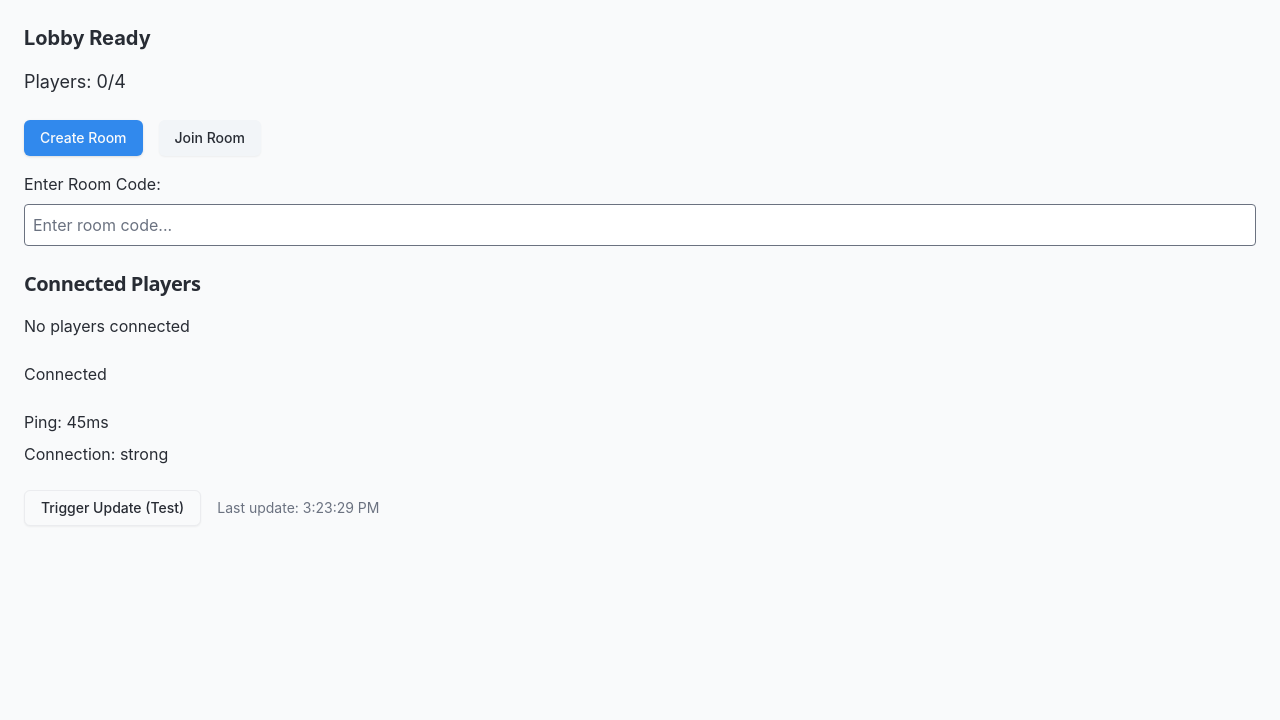
it: Multiplayer Integration Tests (TDD CYCLE 4 GREEN Phase) › Phase GREEN - Tests qui doivent maintenant passer › should allow joining existing room with code
Type "room123" into the field with test id "room-code-input" at (640, 225), box x1=24 y1=204 x2=1256 y2=246
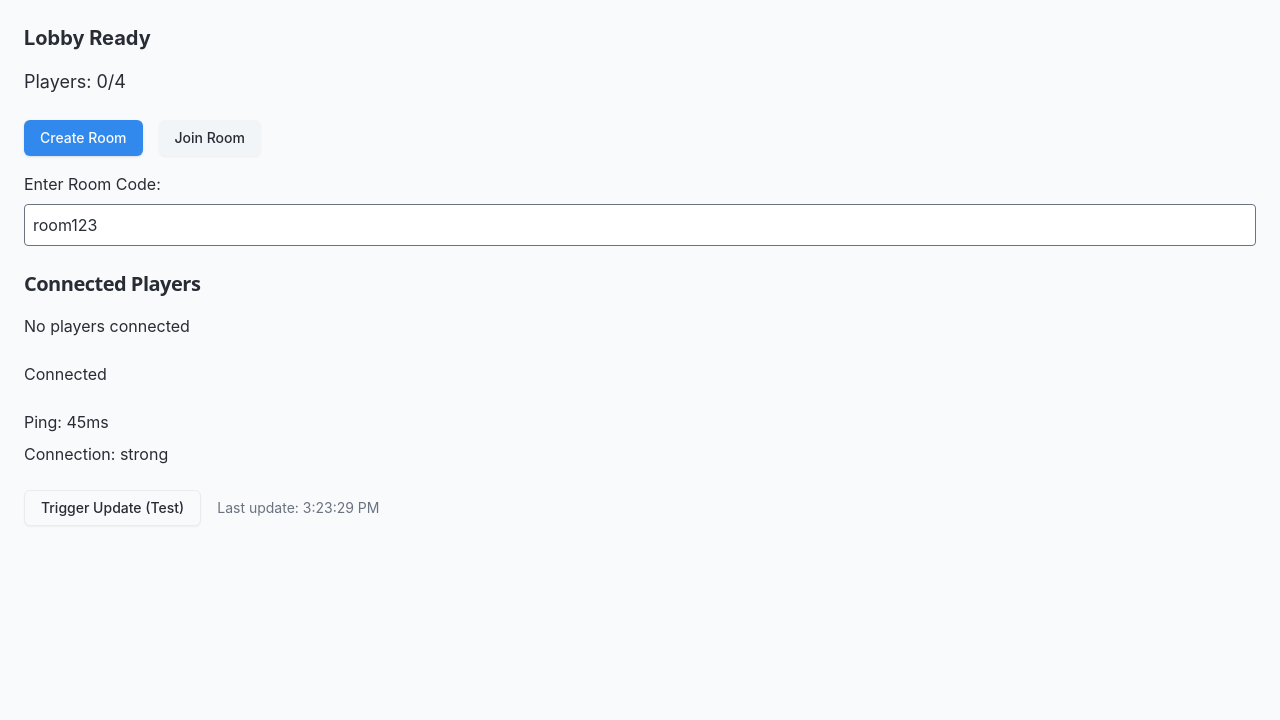
Click the button with test id "join-room-button" at (210, 138), box x1=158 y1=120 x2=261 y2=156
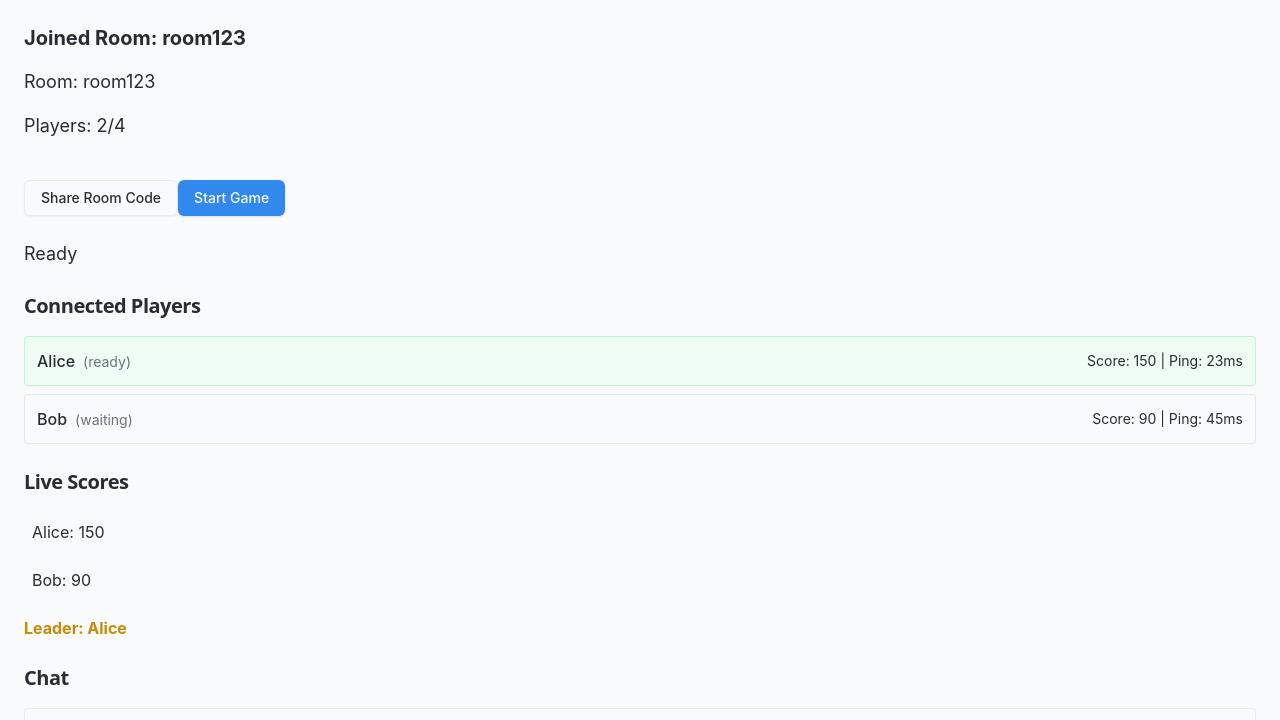
Expected: the text with test id "lobby-status" reads "Joined Room: room123", x1=24 y1=26 x2=246 y2=50
Expected: the text with test id "room-code-display" reads "Room: room123", x1=24 y1=71 x2=156 y2=92
